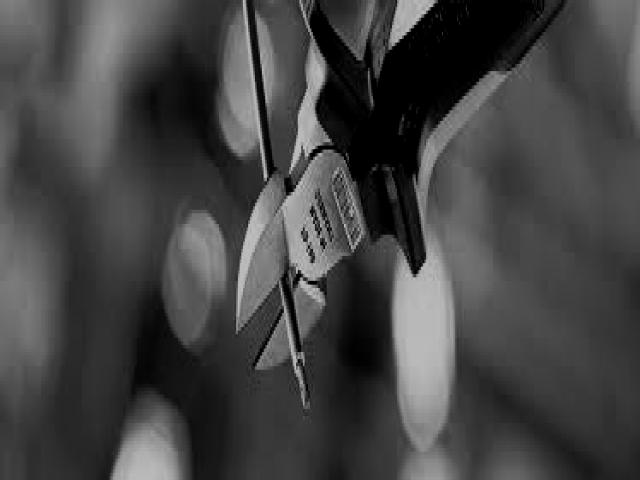Cutting pliers: (236, 0, 565, 369)
